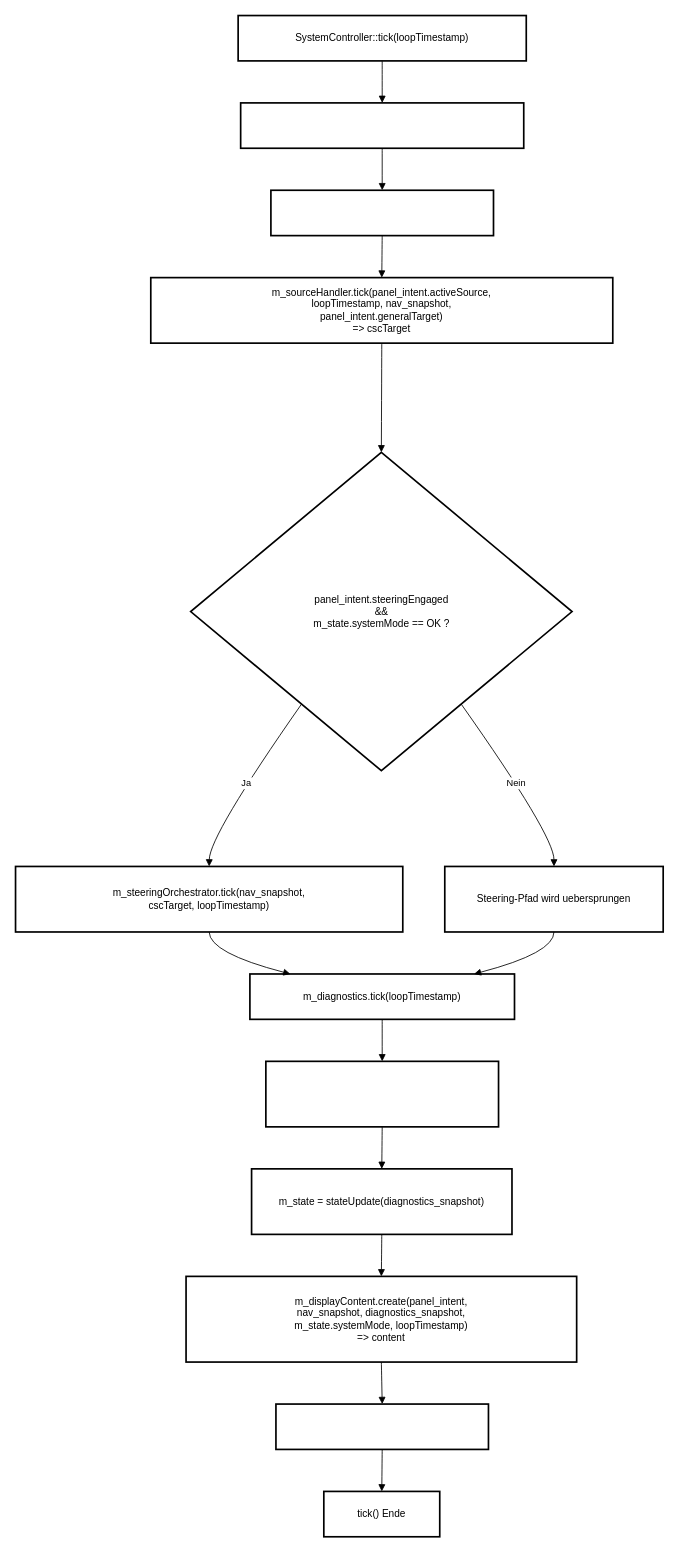
This 678x1551 diagram has some shape labels left out. Each missing label, with the centre of its shape:
m_controlPanel.readIntent(): point (382, 212)
m_diagnostics.snapshot() => diagnostics_snapshot: point (382, 1093)
m_display.update(content): point (382, 1426)
m_navigationSensors.createSnapshot(): point (381, 125)
